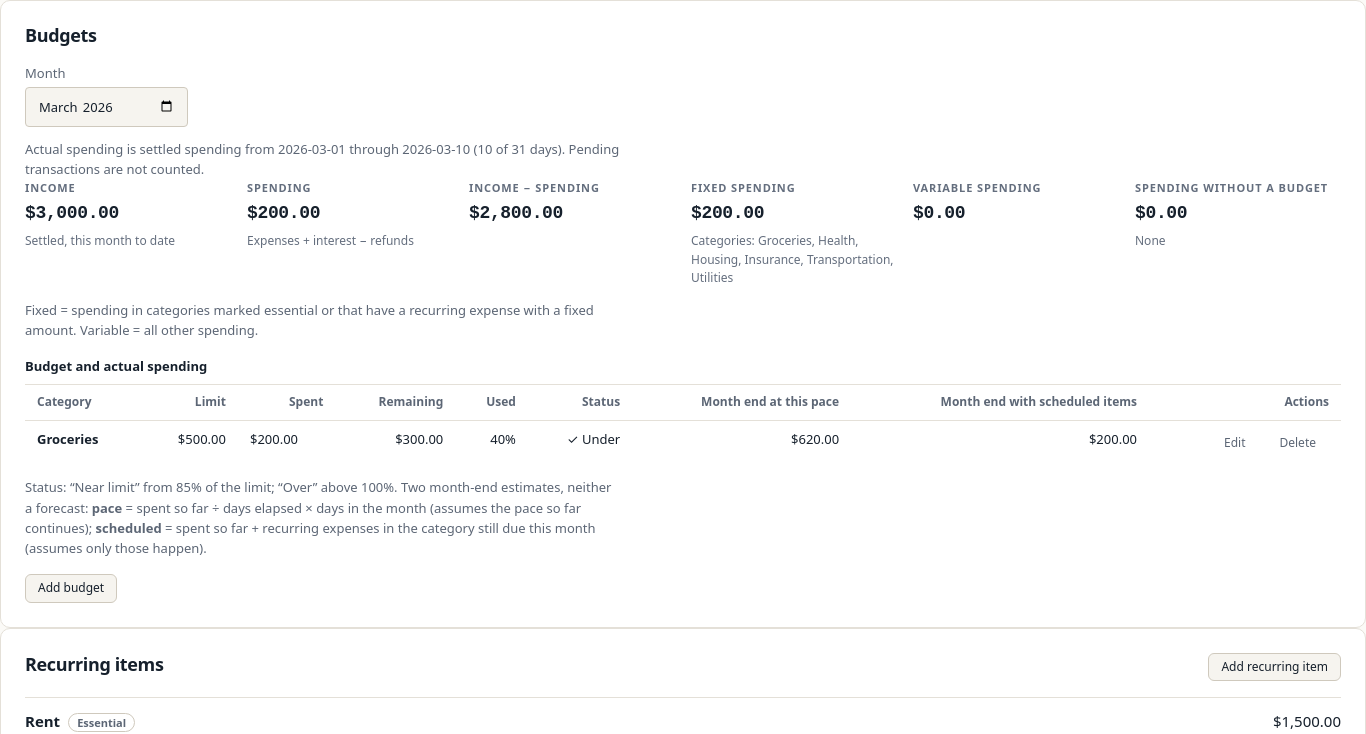
BudgetsView › rejects an invalid limit without saving
Click the button "Add budget". click: (71, 588)
box: [25, 574, 117, 603]
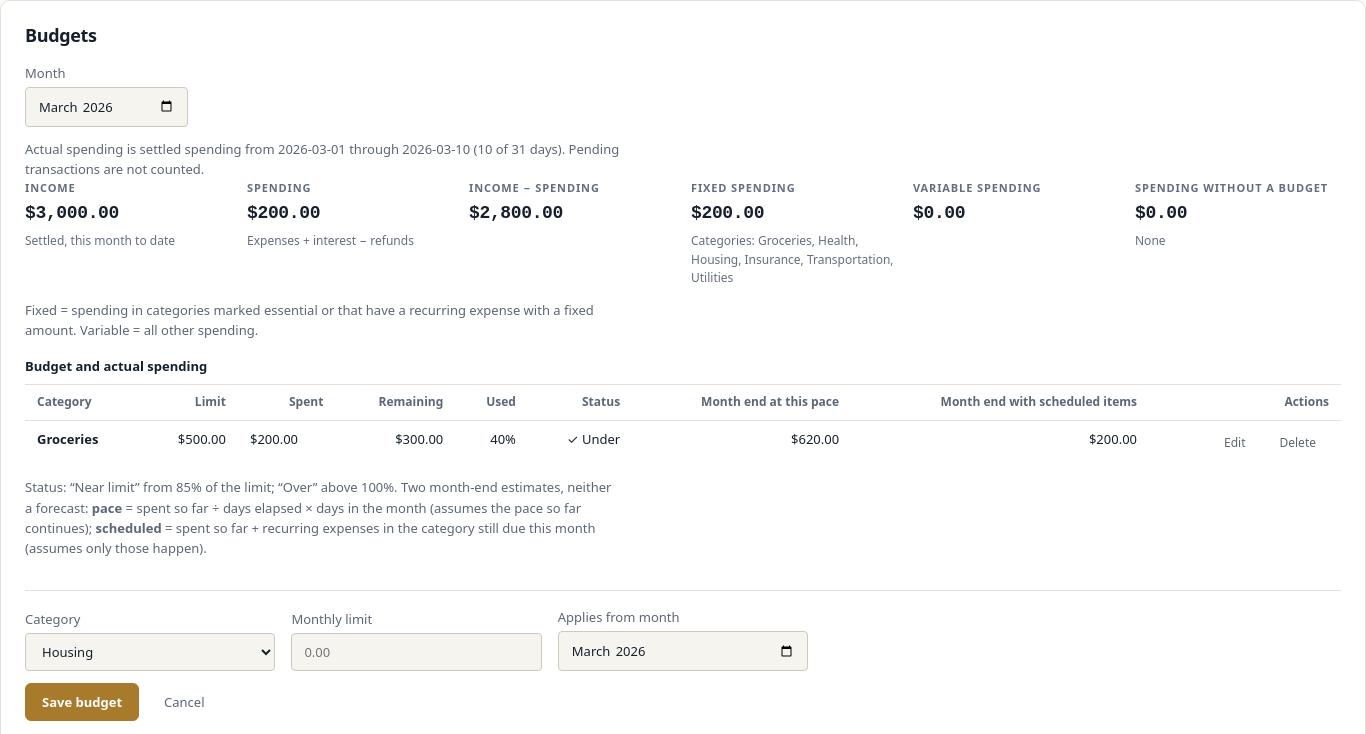
Type "abc" into the field labelled "Monthly limit". click: (417, 652)
box: [291, 633, 542, 671]
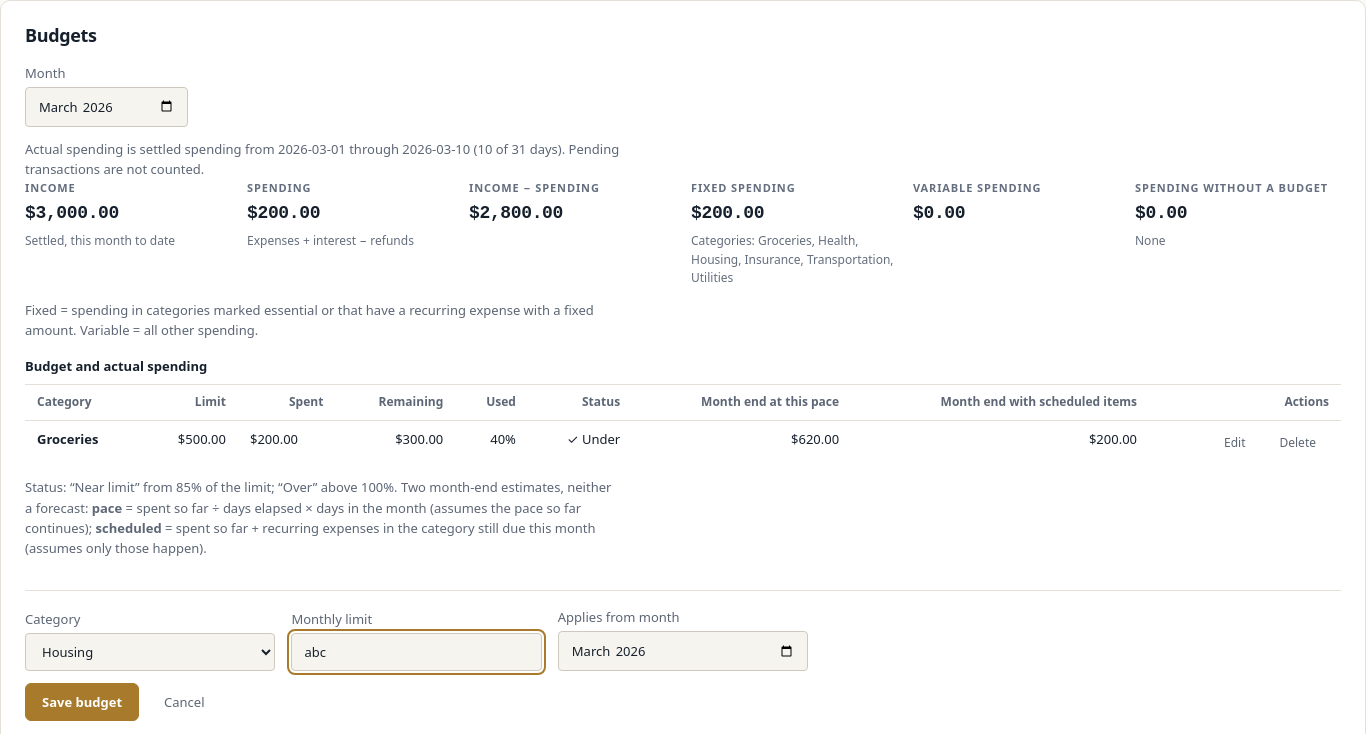
Click the button "Save budget". click: (82, 702)
box: [25, 683, 139, 721]
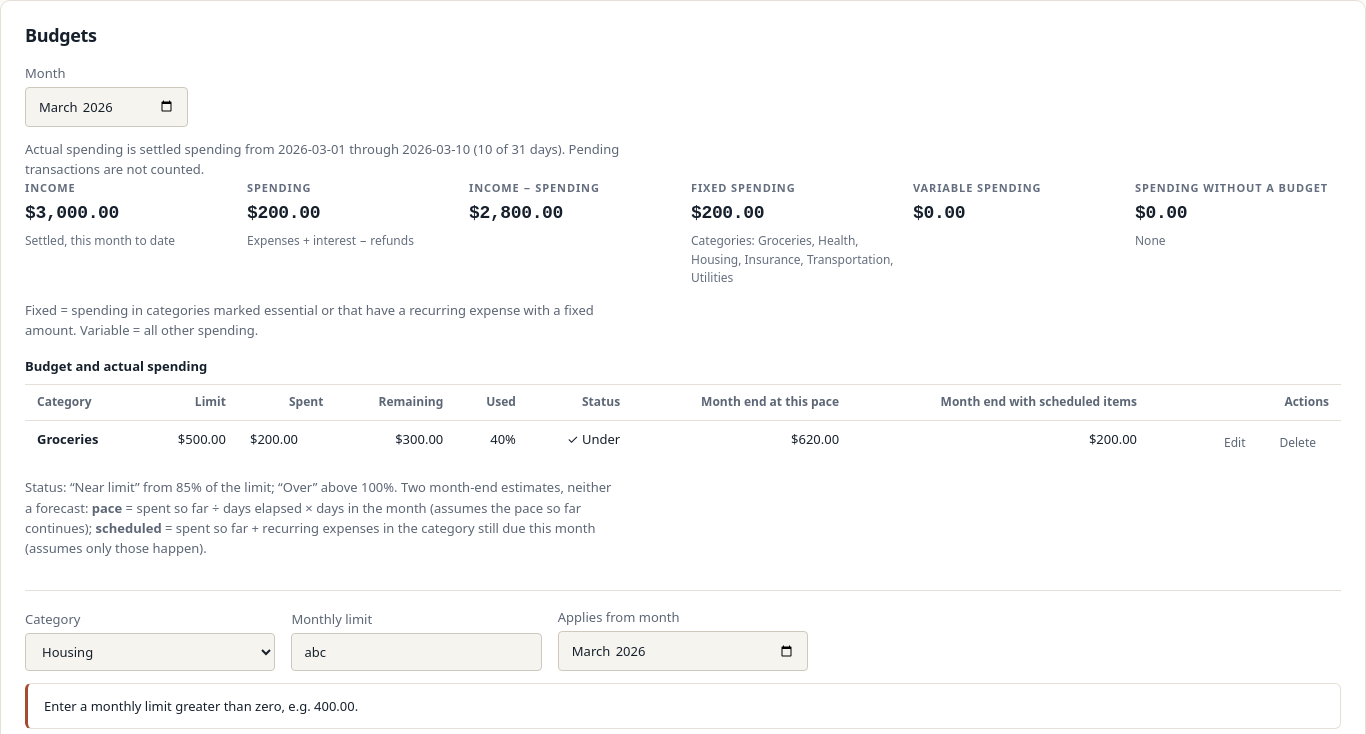
Check: the message shows "monthly limit", box [44, 697, 358, 715]
